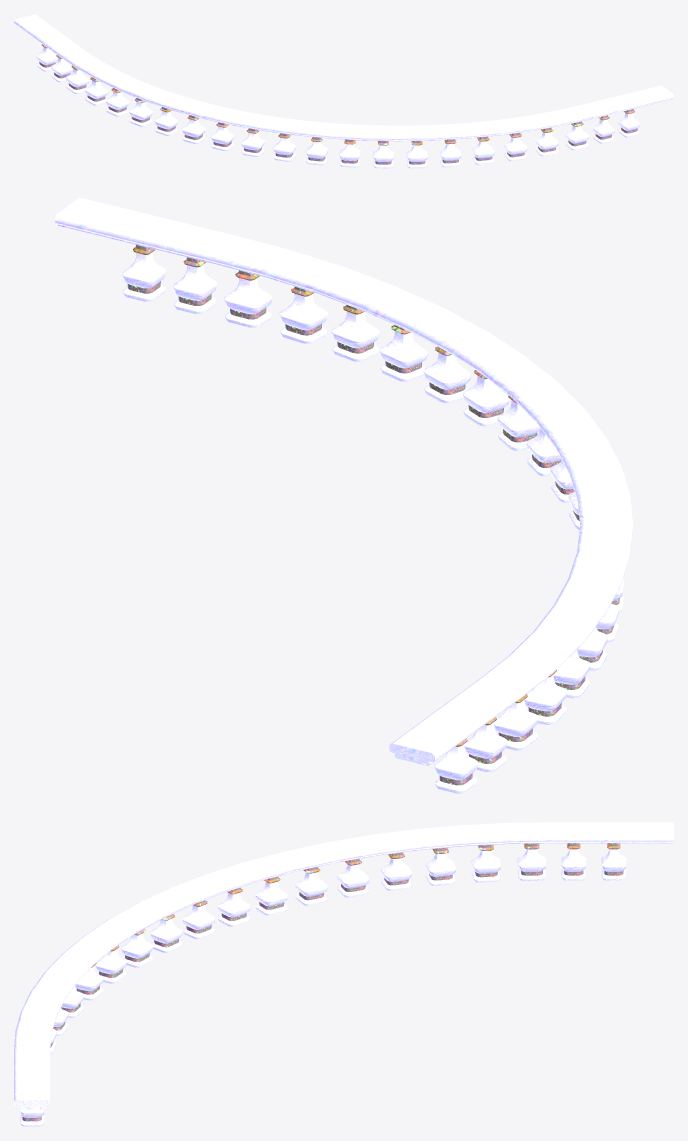
The model's file is banister_corner_small_SM.fbx.
3 renders of one model, top to bottom at view 1: azimuth 30°, elevation 25°; view 2: azimuth 150°, elevation 25°; view 3: azimuth 270°, elevation 25°, orthographic. The views are drawn at different scales.
Parts seen in each view (by area): view 1: banister_corner_small_SM_LOD0; view 2: banister_corner_small_SM_LOD0; view 3: banister_corner_small_SM_LOD0.
Boxes of the visible parts, x1,y1,x2,y2 form: banister_corner_small_SM_LOD0: [14, 14, 673, 168]; banister_corner_small_SM_LOD0: [55, 197, 632, 793]; banister_corner_small_SM_LOD0: [14, 822, 673, 1126].
Bounding box in the file's own units: 1053 × 1053 × 82.81.
3 materials, 2 textured.
